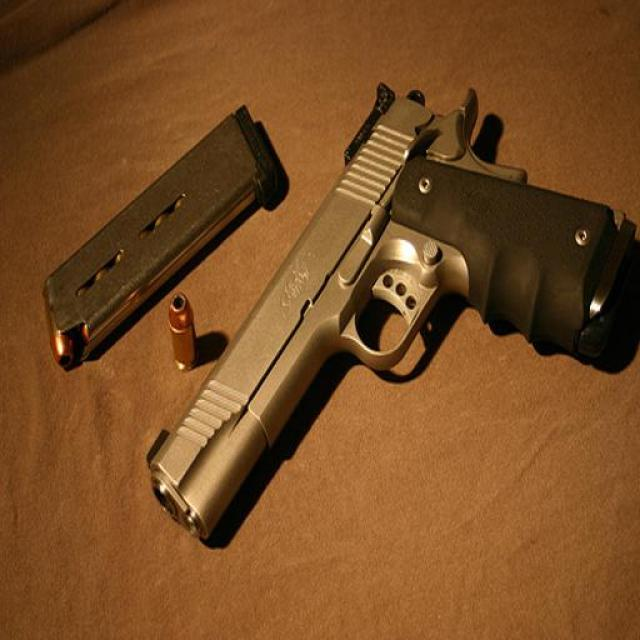pistol: (144, 76, 635, 545)
